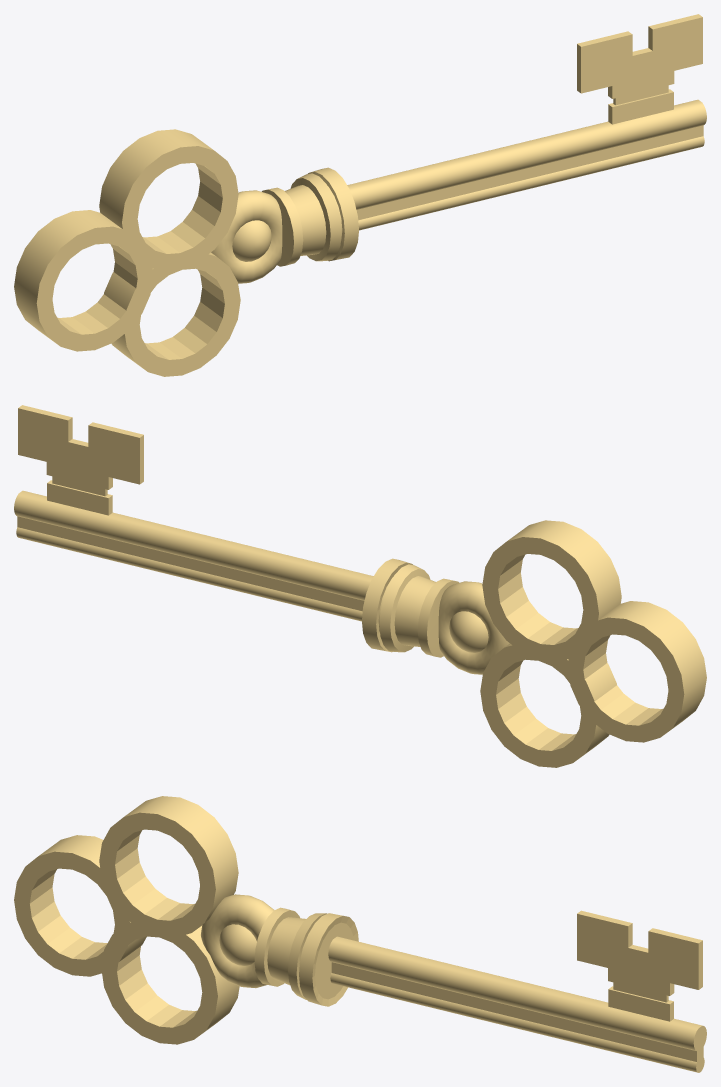
The model's file is key.fbx.
3 renders of one model, top to bottom at view 1: azimuth 30°, elevation 25°; view 2: azimuth 150°, elevation 25°; view 3: azimuth 330°, elevation 25°, orthographic.
Parts seen in each view (by area): view 1: Key; view 2: Key; view 3: Key.
Part boxes in pixels (left/top/right/bottom): Key: left=14, top=14, right=706, bottom=376; Key: left=14, top=405, right=706, bottom=767; Key: left=14, top=796, right=706, bottom=1072.
Size of the model in its own units: 0.2944 by 0.0952 by 0.0353.
Materials: 1 (1 with a texture image).
